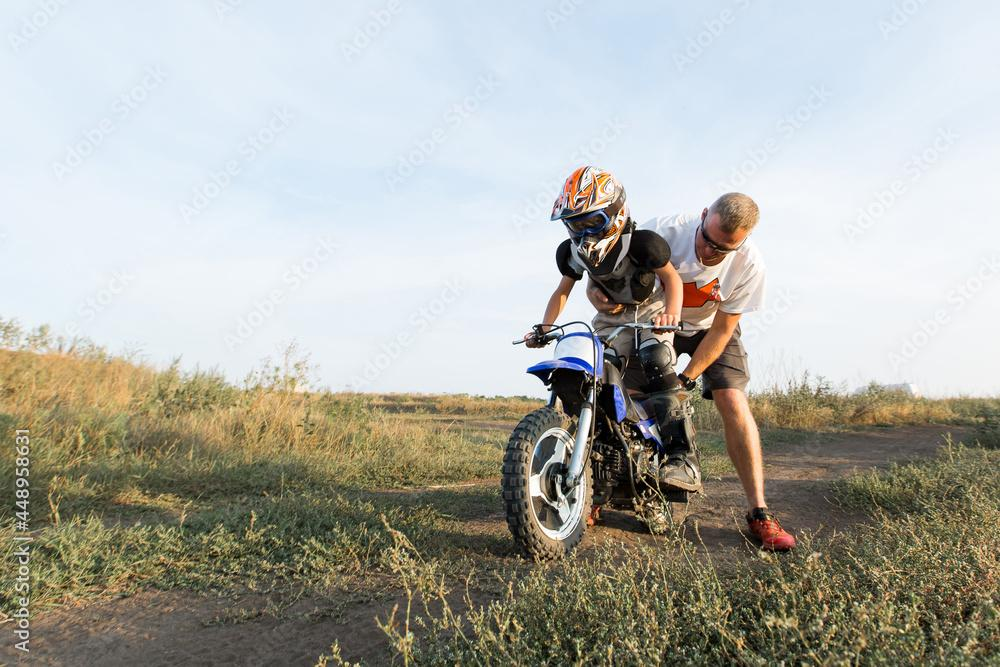helmet: (549, 165, 629, 268)
nohelmet: (695, 190, 761, 262)
